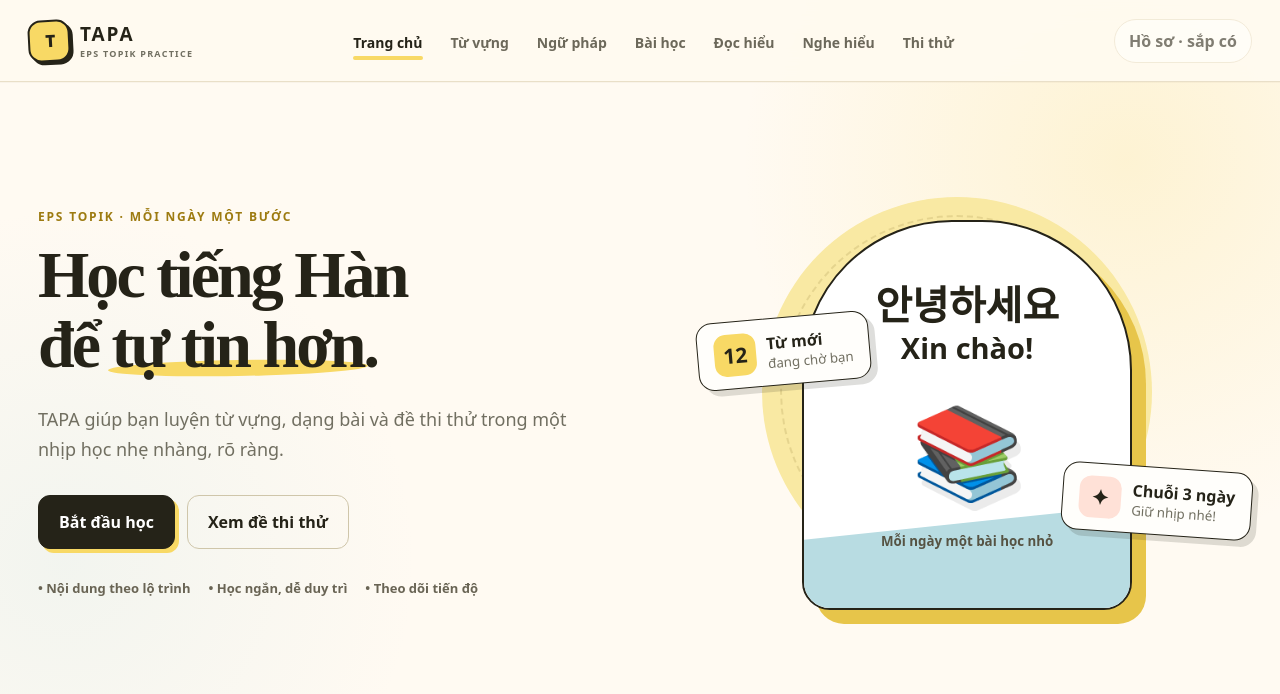
Test: TapaApp › shows the full lesson sections and gives immediate feedback for each exercise answer
Click the button "Bài học" at (660, 40), box 623,2 -> 698,78
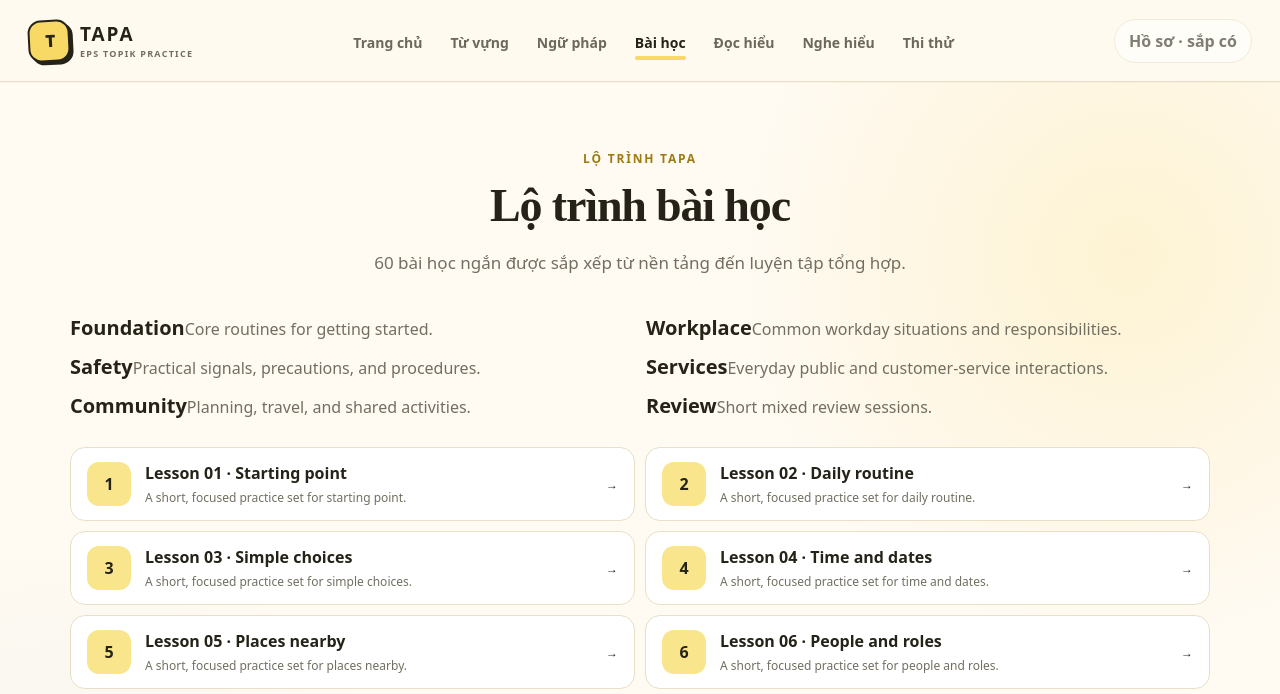
Click the button "Lesson 01" at (109, 484), box 70,447 -> 635,521
(page scrolled)
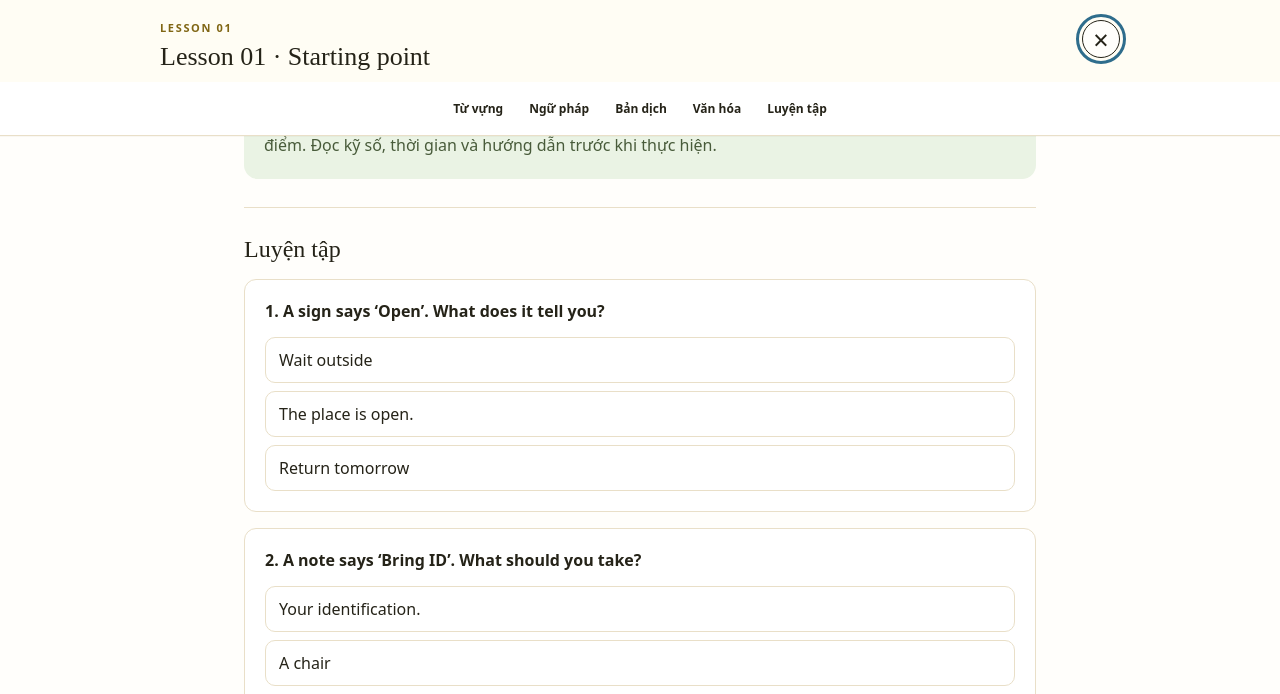
Expected: the navigation bar named "Mục lục bài học" is shown, 0,82 -> 1279,136
Expected: the heading "Ghi chú văn hóa" is shown, 244,42 -> 402,68
Expected: the heading "Luyện tập" is shown, 244,236 -> 341,262
Click the button "Wait outside" at (326, 360), box 265,337 -> 1015,383
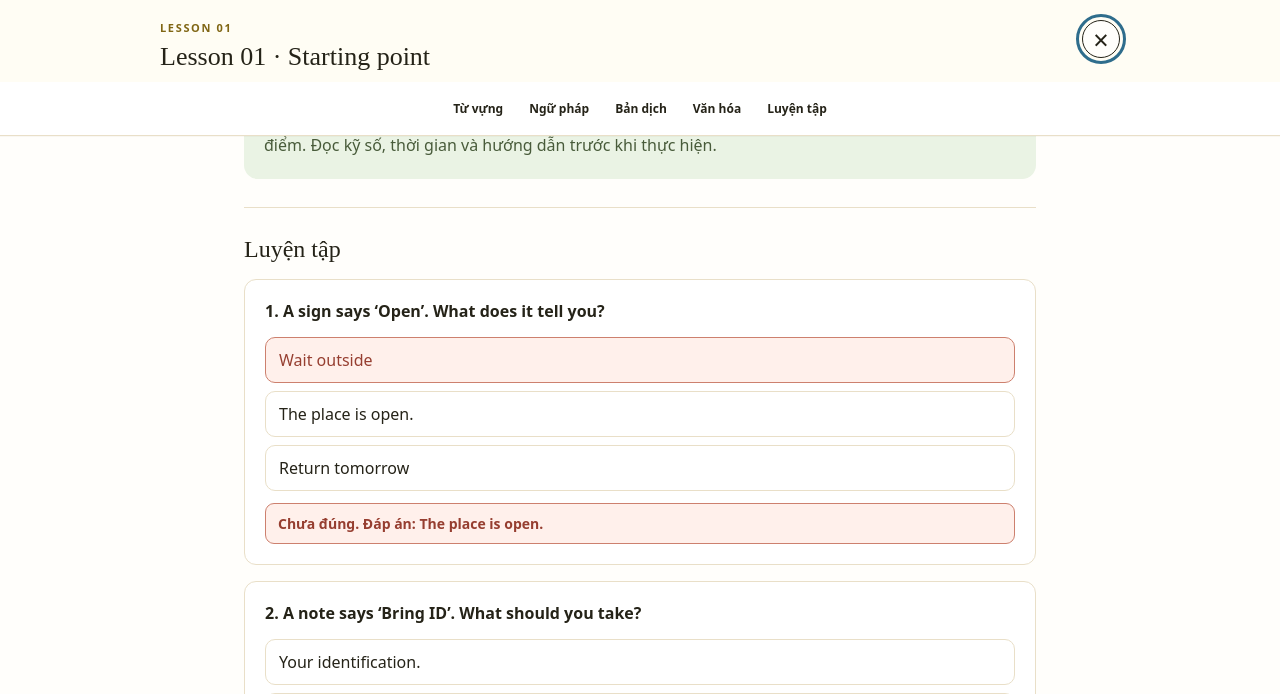
Expected: the text "Chưa đúng. Đáp án: The place is open." is shown, 265,503 -> 1015,544
Click the button "The place is open." at (346, 414), box 265,391 -> 1015,437
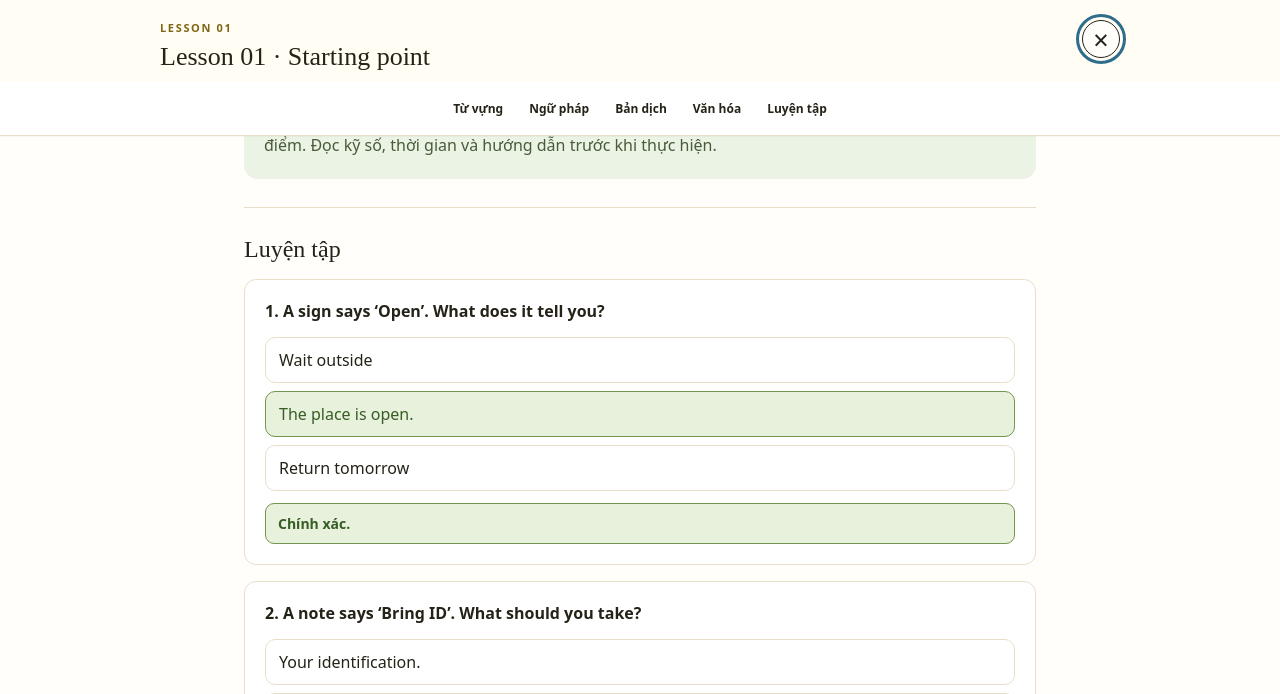
Expected: the text "Chính xác." is shown, 265,503 -> 1015,544
